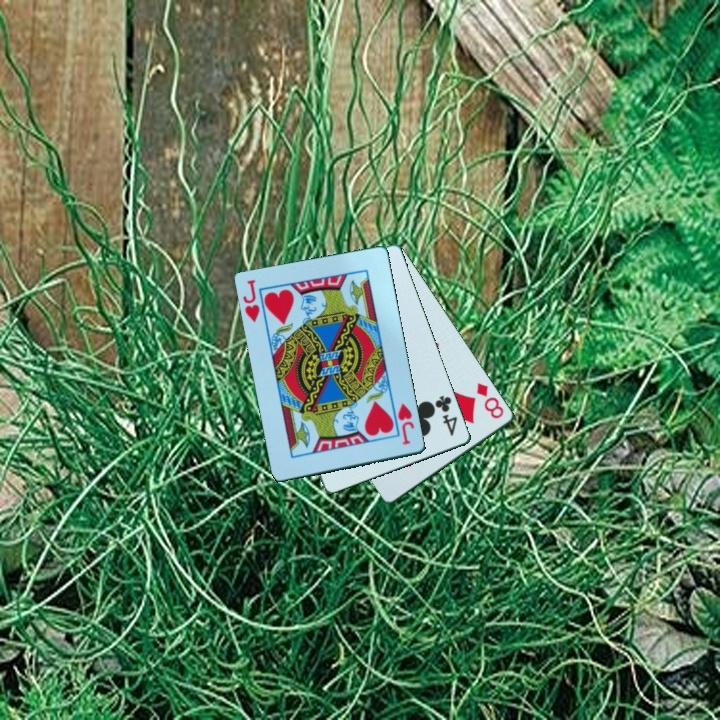4c: (432, 392, 461, 439)
8d: (473, 379, 507, 422)
Jh: (240, 276, 263, 326), (394, 400, 417, 448)
